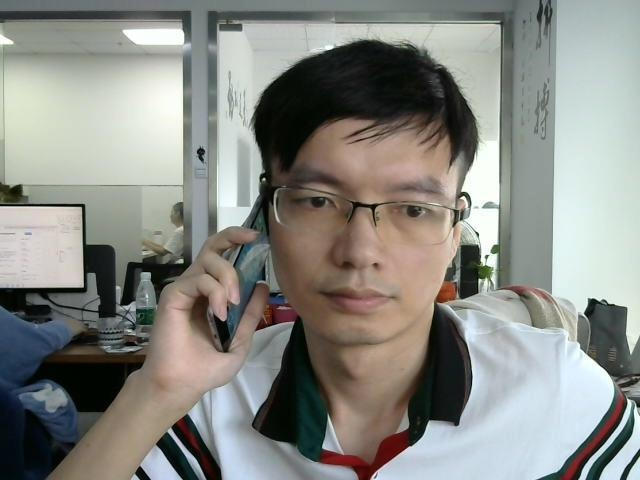hand: (150, 230, 258, 390)
